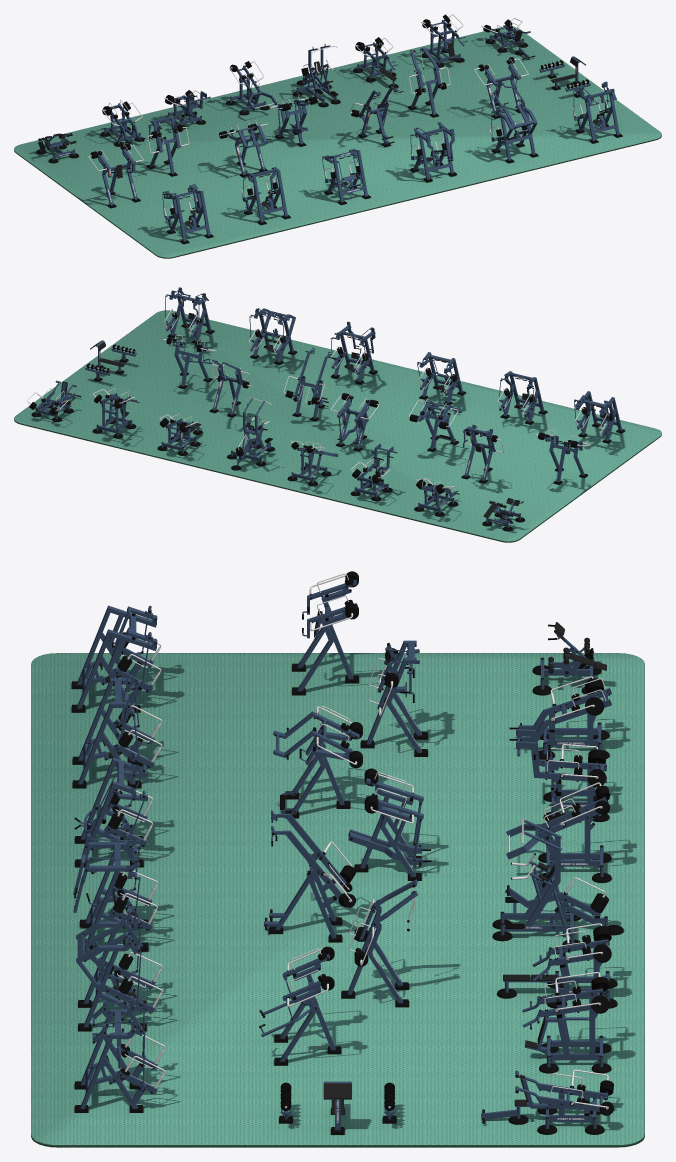
Rendered from green.glb.
3 views of the same model, one above another, from view 1: azimuth 30°, elevation 25°; view 2: azimuth 150°, elevation 25°; view 3: azimuth 270°, elevation 25° (orthographic). The views are drawn at different scales.
Visible parts, largest first — view 1: Cube, Element_2.015, Element_2.053, Element_2.039, Element_2.113, Element_2.024, Element_2.119, Blue metal.002, blue_metal.021, blue_metal.012, Corpus, Element_2.002 (+8 smaller); view 2: Cube, Element_2.015, Element_2.053, Element_2.119, Element_2.024, Element_2.113, Element_2.039, Blue metal.002, blue_metal.021, Corpus, blue_metal.012, Element_2.096 (+11 smaller); view 3: Cube, Element_2.015, Blue metal.002, Element_2.053, Element_2.113, Element_2.039, Element_2.024, accent.035, Corpus, Element_2.119, accent.017, blue_metal.021 (+26 smaller).
Part boxes in pixels (x1=…): Cube: x1=14, y1=26, x2=661, y2=258; Element_2.015: x1=164, y1=188, x2=210, y2=241; Element_2.053: x1=494, y1=104, x2=537, y2=160; Element_2.039: x1=245, y1=167, x2=287, y2=222; Element_2.113: x1=577, y1=86, x2=619, y2=140; Element_2.024: x1=413, y1=125, x2=454, y2=179; Element_2.119: x1=327, y1=150, x2=367, y2=202; Blue metal.002: x1=296, y1=44, x2=336, y2=104; blue_metal.021: x1=149, y1=116, x2=176, y2=173; blue_metal.012: x1=98, y1=149, x2=137, y2=205; Corpus: x1=425, y1=23, x2=460, y2=64; Element_2.002: x1=228, y1=129, x2=265, y2=174; Cube: x1=14, y1=310, x2=661, y2=542; Element_2.015: x1=575, y1=391, x2=622, y2=440; Element_2.053: x1=253, y1=308, x2=295, y2=362; Element_2.119: x1=422, y1=352, x2=462, y2=402; Element_2.024: x1=334, y1=326, x2=374, y2=381; Element_2.113: x1=169, y1=290, x2=211, y2=341; Element_2.039: x1=502, y1=371, x2=544, y2=421; Blue metal.002: x1=231, y1=398, x2=270, y2=463; blue_metal.021: x1=464, y1=426, x2=493, y2=480; Corpus: x1=96, y1=400, x2=132, y2=435; blue_metal.012: x1=545, y1=437, x2=584, y2=481; Element_2.096: x1=212, y1=365, x2=241, y2=414; Cube: x1=31, y1=653, x2=644, y2=1147; Element_2.015: x1=77, y1=605, x2=157, y2=708; Blue metal.002: x1=500, y1=819, x2=574, y2=943; Element_2.053: x1=76, y1=916, x2=140, y2=1027; Element_2.113: x1=80, y1=1005, x2=143, y2=1108; Element_2.039: x1=78, y1=678, x2=141, y2=784; Element_2.024: x1=84, y1=842, x2=142, y2=946; accent.035: x1=348, y1=778, x2=423, y2=868; Corpus: x1=525, y1=993, x2=603, y2=1067; Element_2.119: x1=81, y1=757, x2=136, y2=863; accent.017: x1=86, y1=911, x2=156, y2=1012; blue_metal.021: x1=366, y1=640, x2=421, y2=752.
Size of what is drawn, in the model's own units: 23.37 by 2.54 by 12.32.
160 materials, 30 textured.
